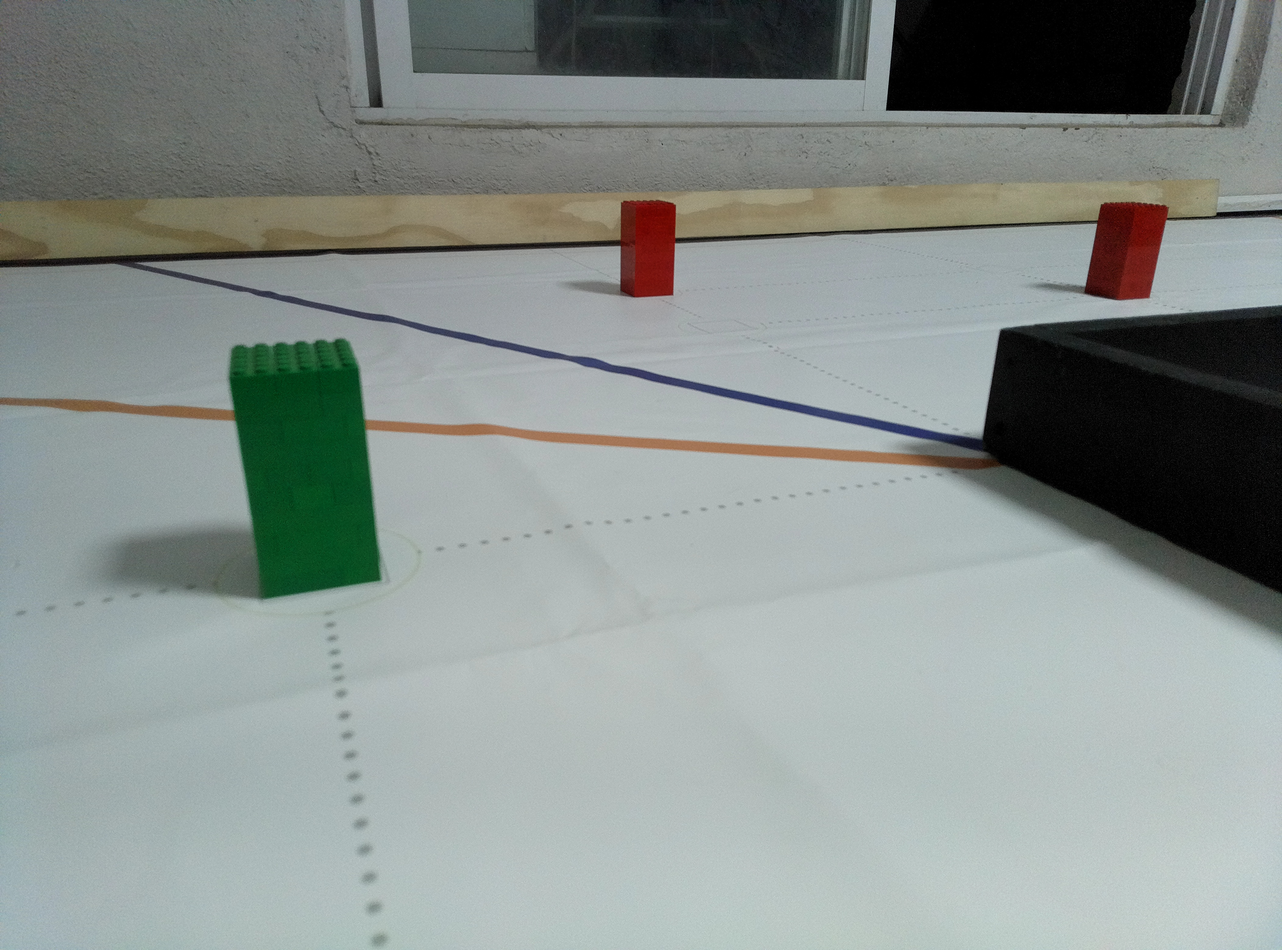greenbox: (228, 339, 383, 602)
redbox: (1083, 201, 1170, 300), (617, 199, 677, 297)
